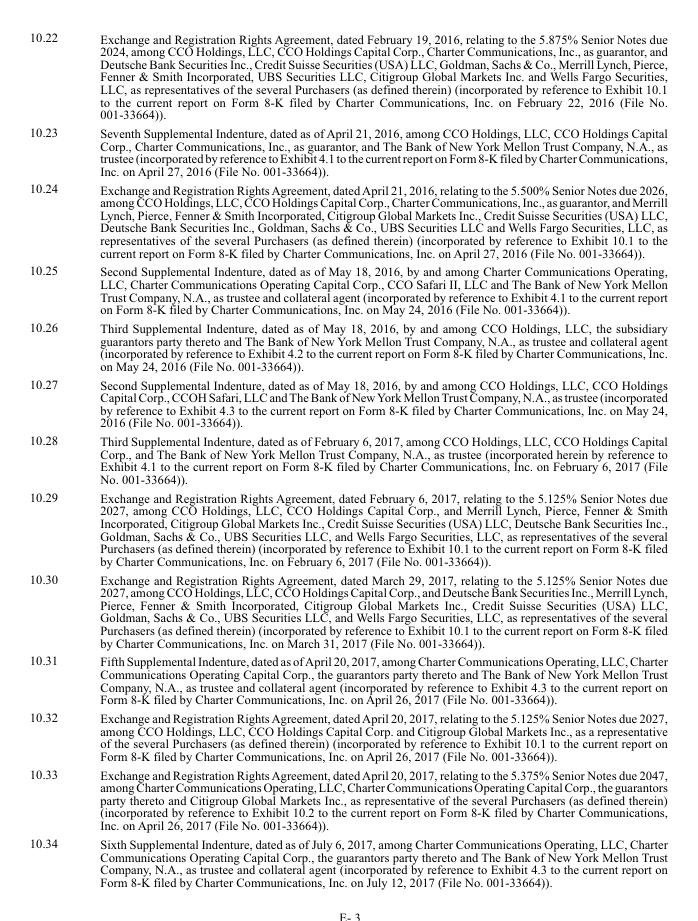table: (28, 28, 666, 889)
table column: (78, 28, 666, 889), (28, 28, 78, 889)
table row: (28, 28, 666, 122), (28, 487, 666, 569), (28, 569, 666, 651), (28, 179, 666, 260), (28, 764, 666, 833), (28, 122, 666, 179), (28, 260, 666, 317), (28, 317, 666, 374), (28, 430, 666, 487), (28, 707, 666, 764), (28, 374, 666, 430), (28, 651, 666, 707), (28, 833, 666, 889)
